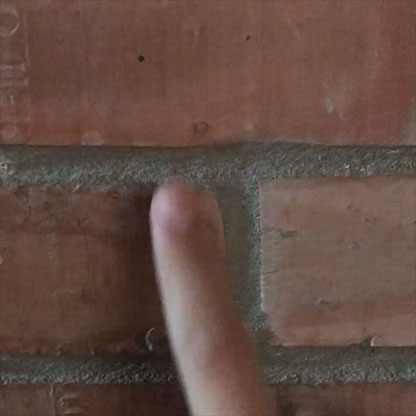fingertip: (136, 172, 217, 243)
